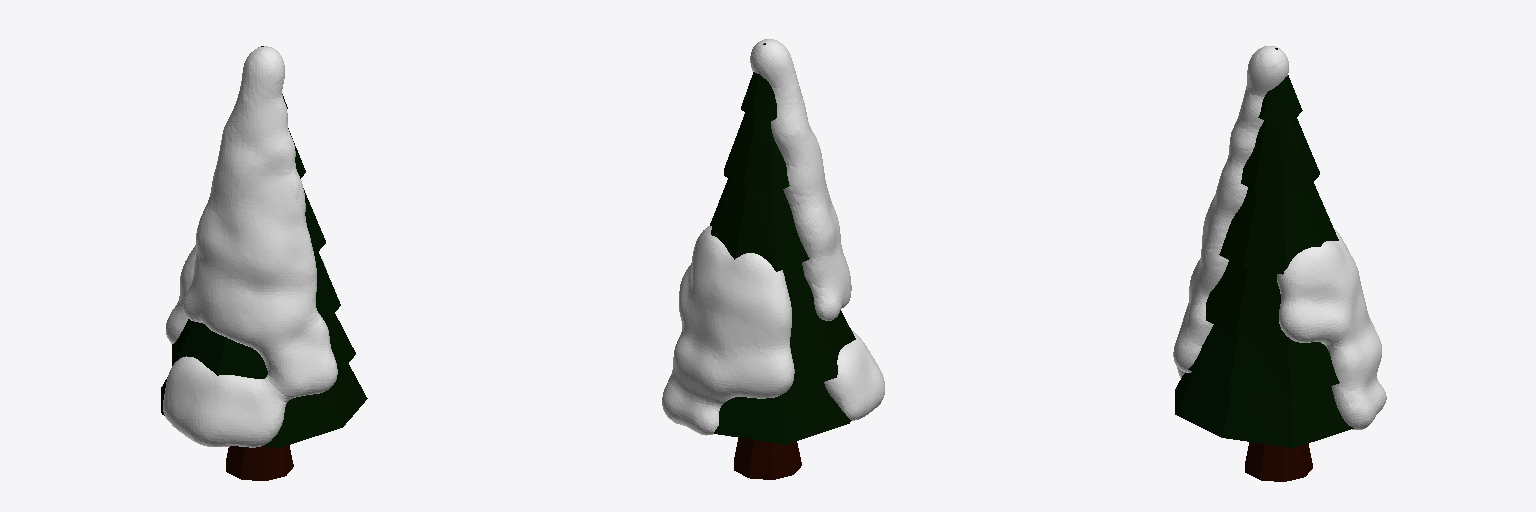
Rendered from lowpolytree-snow.obj.
The picture shows the model from 3 angles: view 1: azimuth 30°, elevation 25°; view 2: azimuth 150°, elevation 25°; view 3: azimuth 270°, elevation 25°; orthographic projection.
Visible parts, largest first — view 1: SnowBall.003, Cylinder, SnowBall.001; view 2: Cylinder, SnowBall.001, SnowBall.003; view 3: Cylinder, SnowBall.001, SnowBall.003.
Boxes of the visible parts, x1=… form: SnowBall.003: x1=163, y1=46, x2=337, y2=447; Cylinder: x1=161, y1=46, x2=367, y2=480; SnowBall.001: x1=166, y1=245, x2=325, y2=343; Cylinder: x1=710, y1=43, x2=855, y2=479; SnowBall.001: x1=662, y1=226, x2=794, y2=435; SnowBall.003: x1=750, y1=39, x2=884, y2=420; Cylinder: x1=1175, y1=48, x2=1353, y2=481; SnowBall.001: x1=1277, y1=229, x2=1386, y2=429; SnowBall.003: x1=1173, y1=46, x2=1288, y2=377.
Size of the model in its own units: 2.37 by 5.13 by 2.35.